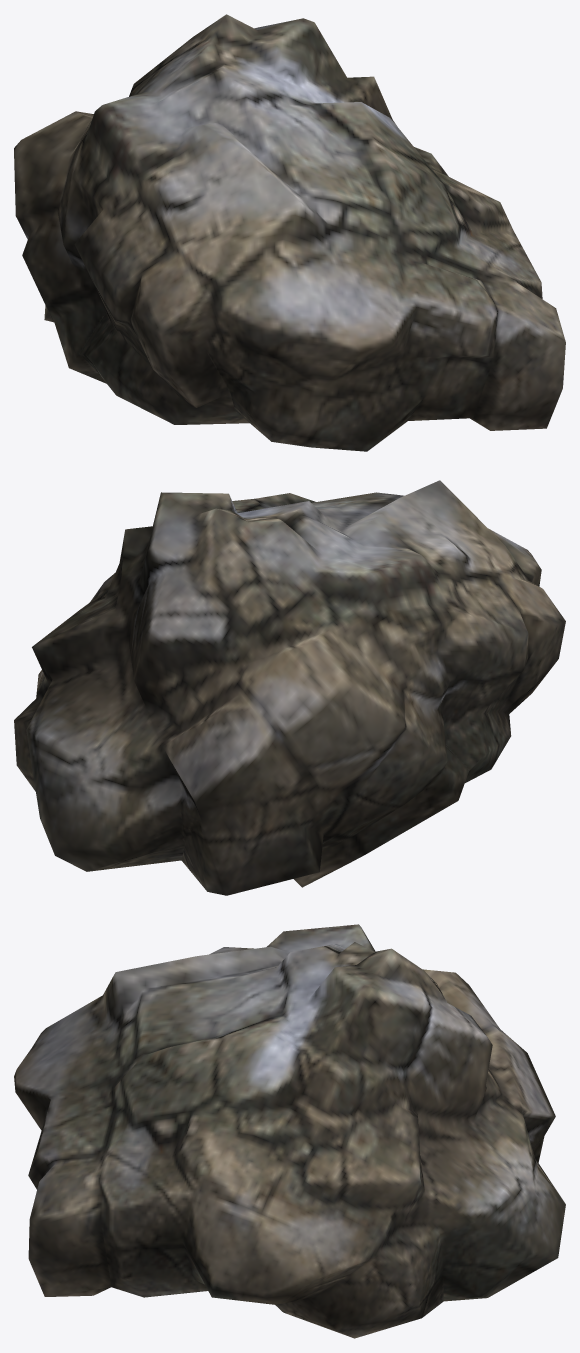
The model's file is Rock3.FBX.
3 renders of one model, top to bottom at view 1: azimuth 30°, elevation 25°; view 2: azimuth 150°, elevation 25°; view 3: azimuth 270°, elevation 25°, orthographic. The views are drawn at different scales.
Parts seen in each view (by area): view 1: Rock3; view 2: Rock3; view 3: Rock3.
Part boxes in pixels (x1,y1,x2,y2): Rock3: [14, 14, 565, 451]; Rock3: [14, 480, 565, 895]; Rock3: [14, 924, 565, 1338].
Bounding box in the file's own units: 2.97 × 2.33 × 3.47.
